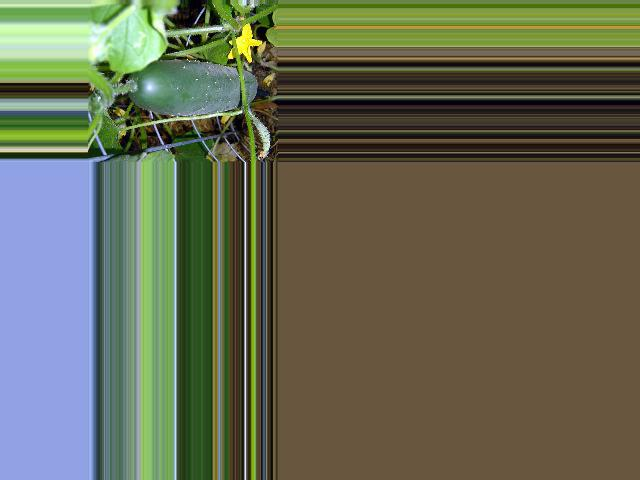cucumber: (127, 60, 256, 117)
